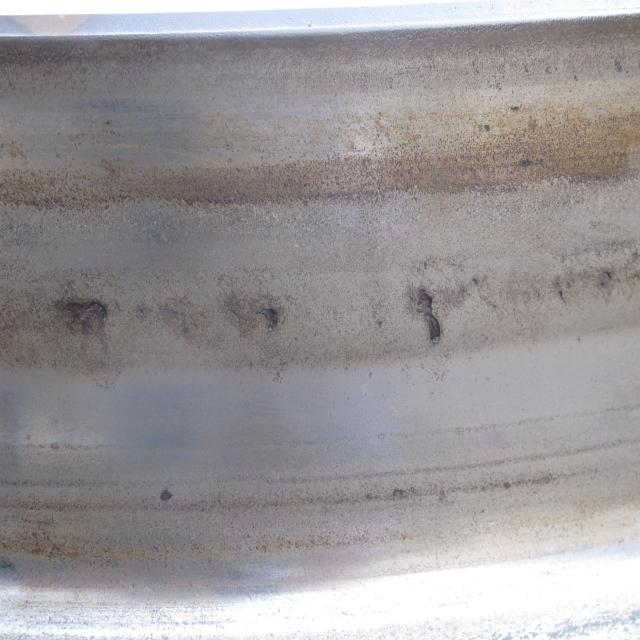Blue hole: (156, 490, 178, 504), (522, 158, 534, 171), (511, 105, 524, 115), (484, 126, 492, 135)
Peeling: (414, 288, 445, 347), (59, 301, 111, 326), (262, 305, 281, 329), (604, 269, 614, 281)
